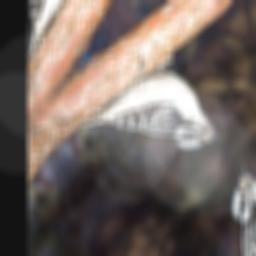Woodpecker: (80, 33, 235, 221)
